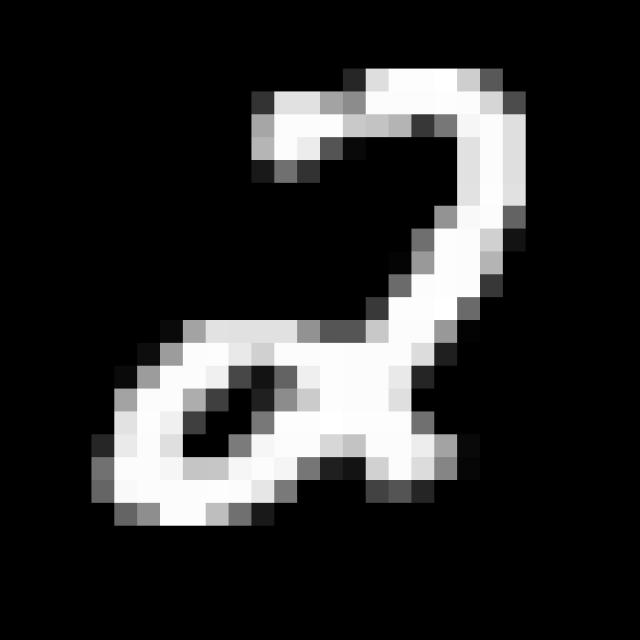two -2-: (84, 50, 542, 526)
